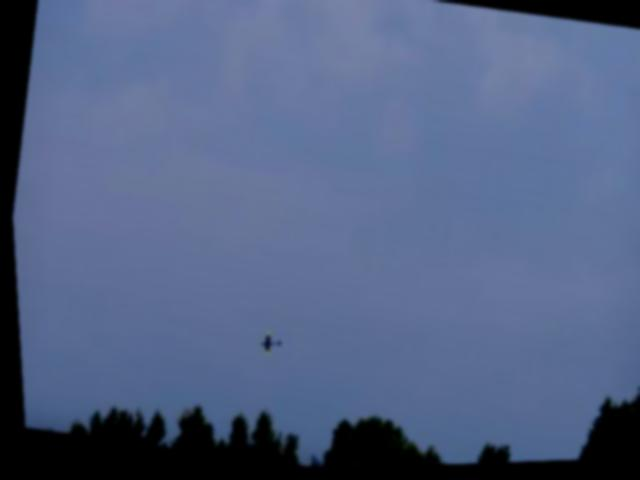uav: (249, 322, 282, 364)
